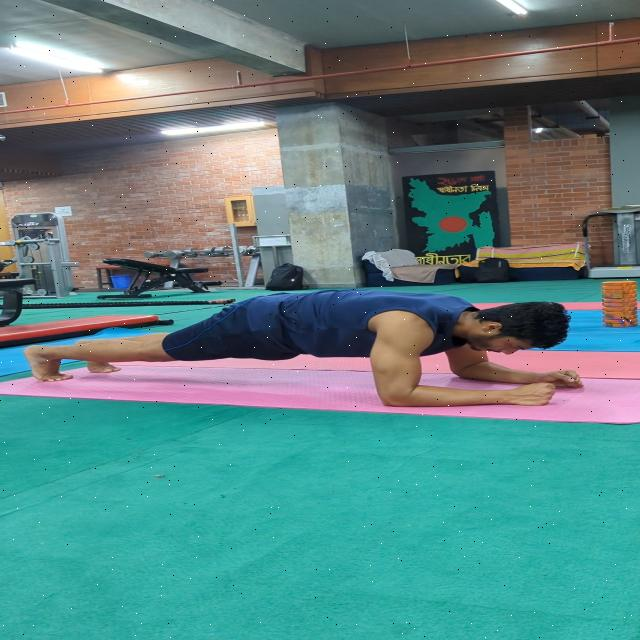Normal_Plunk: (22, 279, 600, 425)
